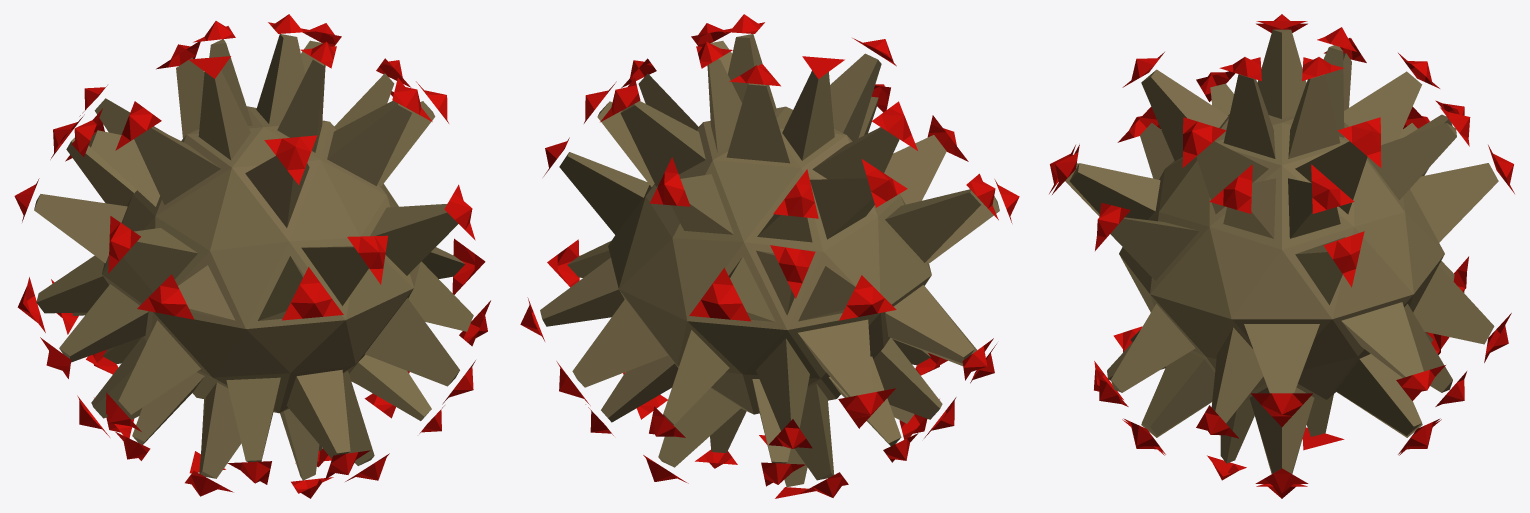
File: covid_01.fbx
3 renders of one model, left to right at view 1: azimuth 30°, elevation 25°; view 2: azimuth 150°, elevation 25°; view 3: azimuth 270°, elevation 25°, orthographic.
Visible parts, largest first — view 1: Virus, Coroa; view 2: Virus, Coroa; view 3: Virus, Coroa.
Part boxes in pixels (x1,y1,x2,y2): Virus: (34, 34, 473, 480); Coroa: (14, 14, 490, 498); Virus: (540, 34, 999, 486); Coroa: (520, 14, 1019, 498); Virus: (1065, 29, 1498, 473); Coroa: (1049, 14, 1514, 498).
Bounding box in the file's own units: 340 × 334 × 323.
